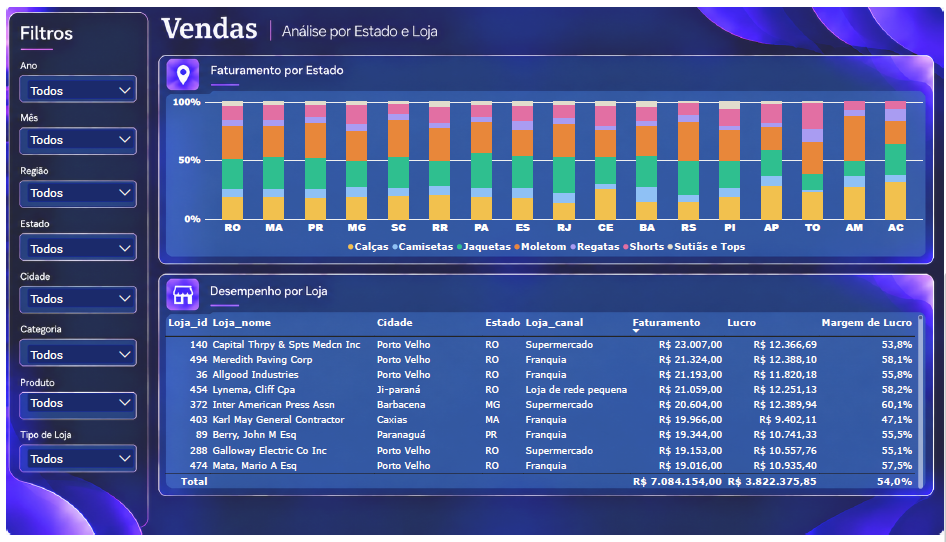

The page's visual inventory and layout, read from the dashboard file:
{"tool":"powerbi","page":{"name":"Análise Por Estado e Loja","canvas":[1920,1080],"ordinal":1},"visuals":[{"type":"hundredPercentStackedColumnChart","fields":{"Category":["Lojas.Estado"],"Series":["Produtos.Produto_Categoria"],"Y":["Medidas.Faturamento"]},"box":[324,168.5,1570.3,354.2],"z":0},{"type":"slicer","fields":{"Values":["Calendário.Ano"]},"box":[21.6,129.6,259.2,71.3],"z":1},{"type":"slicer","fields":{"Values":["Calendário.Mes"]},"box":[21.6,231.1,259.2,71.3],"z":2},{"type":"slicer","fields":{"Values":["Lojas.Região"]},"box":[21.6,341.3,259.2,69.1],"z":3},{"type":"slicer","fields":{"Values":["Lojas.Região"]},"box":[21.6,453.6,259.2,69.1],"z":4},{"type":"slicer","fields":{"Values":["Lojas.Cidade"]},"box":[21.6,557.3,259.2,71.3],"z":5},{"type":"slicer","fields":{"Values":["Produtos.Produto_Categoria"]},"box":[21.6,671.8,259.2,58.3],"z":6},{"type":"slicer","fields":{"Values":["Produtos.Produto_Nome"]},"box":[21.6,771.1,259.2,77.8],"z":7},{"type":"slicer","fields":{"Values":["Lojas.Loja_canal"]},"box":[21.6,885.6,259.2,67],"z":8},{"type":"tableEx","fields":{"Values":["Lojas.Loja_id","Lojas.Loja_nome","Lojas.Cidade","Lojas.Estado","Lojas.Loja_canal","Medidas.Faturamento","Medidas.Lucro","Medidas.Margem de Lucro"]},"box":[308.9,615.6,1585.4,386.6],"z":9}]}

Visuals, with their boxes in screenshot pixels (x1, y1, x2, y2), scaled from the page's 1920x1080 canvas onto the 946x542 screenshot:
hundredPercentStackedColumnChart - Lojas.Estado x Produtos.Produto_Categoria: detection(160, 85, 933, 262)
slicer - Calendário.Ano: detection(11, 65, 138, 101)
slicer - Calendário.Mes: detection(11, 116, 138, 152)
slicer - Lojas.Região: detection(11, 171, 138, 206)
slicer - Lojas.Região: detection(11, 228, 138, 262)
slicer - Lojas.Cidade: detection(11, 280, 138, 315)
slicer - Produtos.Produto_Categoria: detection(11, 337, 138, 366)
slicer - Produtos.Produto_Nome: detection(11, 387, 138, 426)
slicer - Lojas.Loja_canal: detection(11, 444, 138, 478)
tableEx - Lojas.Loja_id x Lojas.Loja_nome: detection(152, 309, 933, 503)
